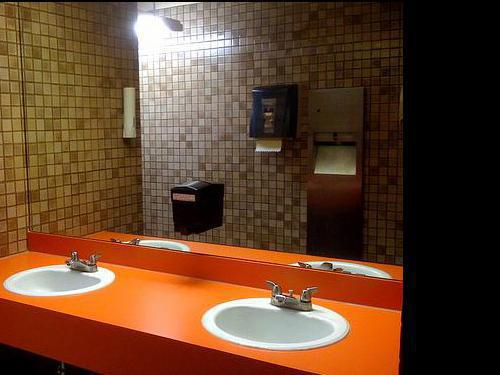Lavamanos: (196, 282, 347, 347), (3, 244, 112, 298)
